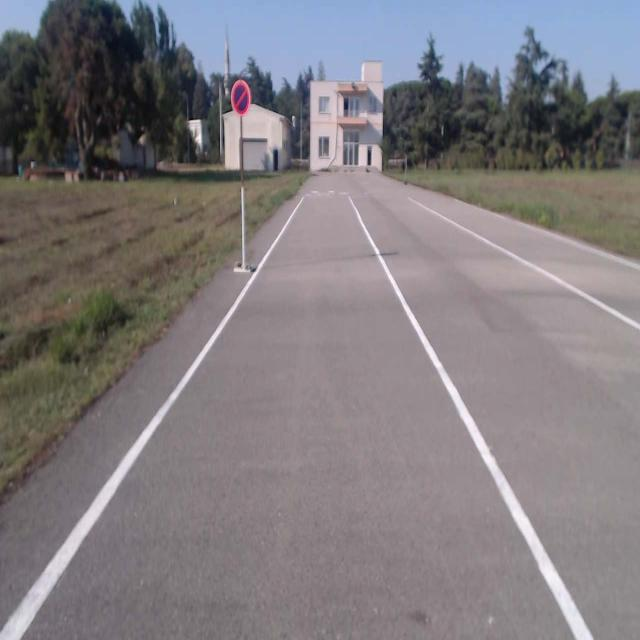parkyasak: (232, 79, 250, 114)
